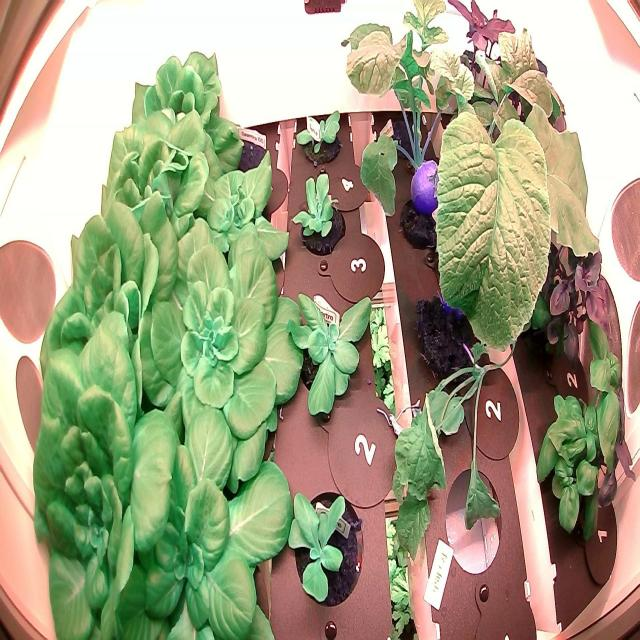Ready: (20, 328, 187, 640), (40, 194, 174, 446), (94, 78, 214, 276), (128, 31, 244, 180)
empty_pod: (436, 462, 507, 581)
pod: (225, 121, 276, 196)
young: (130, 199, 313, 496), (115, 385, 309, 638), (182, 124, 295, 284), (282, 265, 380, 424), (282, 477, 364, 613), (289, 166, 352, 263), (290, 88, 347, 180)
